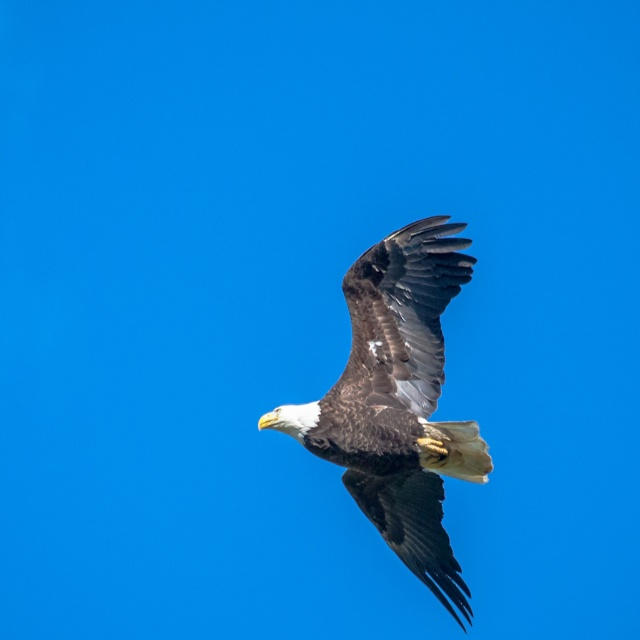Eagle: (259, 215, 491, 630)
